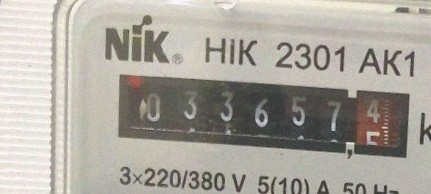0: (141, 87, 165, 126)
3: (179, 86, 201, 122), (215, 88, 236, 124)
4: (363, 94, 384, 126)
5: (285, 91, 310, 129)
6: (249, 93, 272, 130)
7: (322, 96, 343, 133)
screen: (101, 62, 420, 168)
